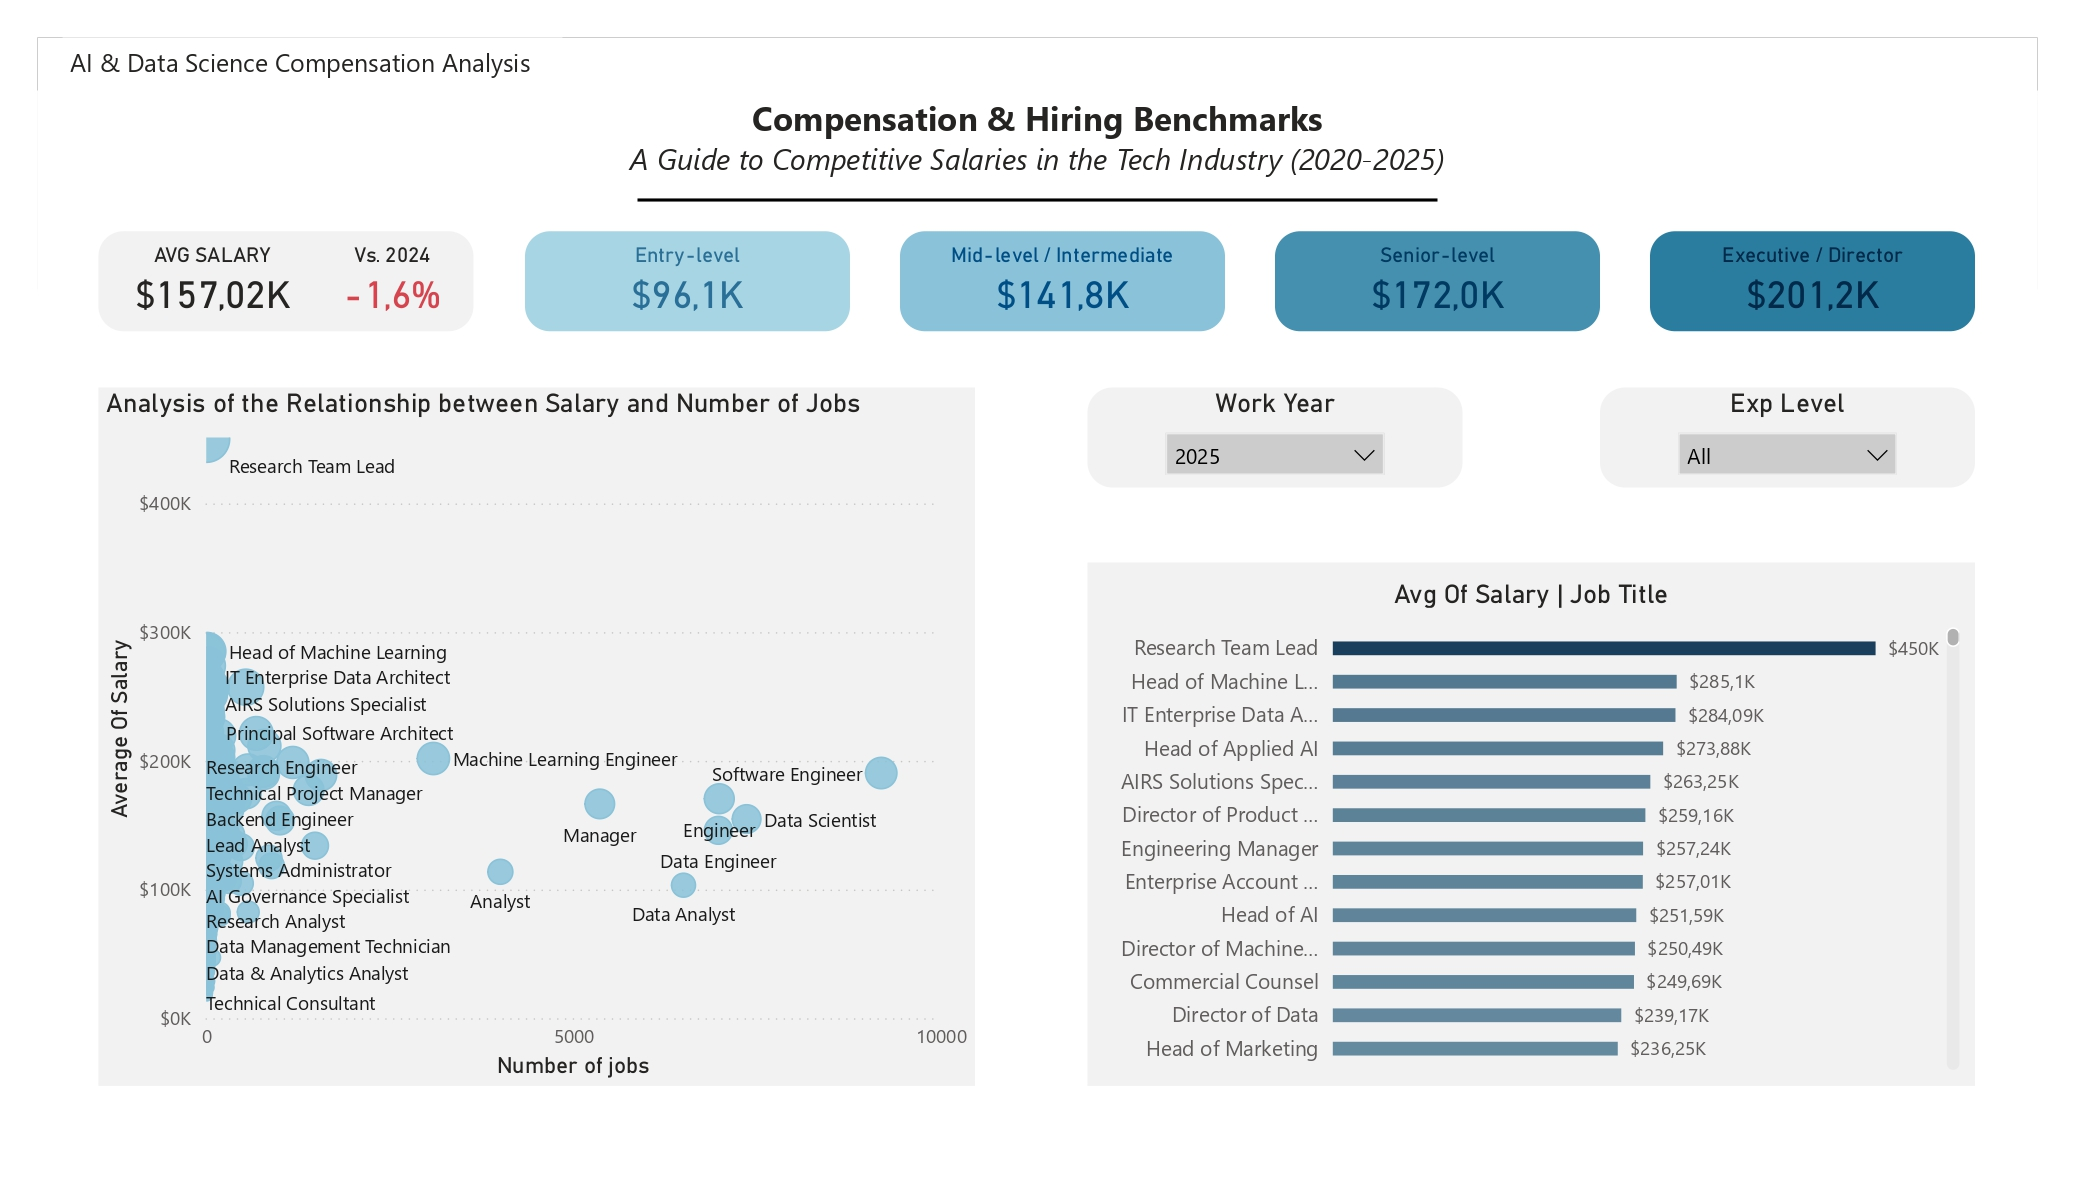

What the dashboard file says about the page in this screenshot:
{"tool":"powerbi","page":{"name":"3.Job Title Benchmarking","canvas":[1280,720],"ordinal":3},"visuals":[{"type":"textbox","box":[16,0,320,48],"z":0},{"type":"shape","box":[1000,224,240,64],"z":0,"group":"g7"},{"type":"textbox","box":[16,32,1248,64],"z":1000},{"type":"slicer","title":"Exp Level","fields":{"Values":["salaries.experience_level"]},"box":[1040.2,224,160,64],"z":1000,"group":"g7"},{"type":"shape","box":[384,96,512,16],"z":2000},{"type":"shape","box":[672,224,240,64],"z":2000,"group":"g3"},{"type":"group","id":"g1","title":"Group 7","box":[39.3,123.7,240.2,64],"z":3000},{"type":"shape","box":[39.3,123.7,240,64],"z":4000,"group":"g1"},{"type":"shape","box":[311.6,124.4,208,64],"z":4000,"group":"g2"},{"type":"shape","box":[551.7,124.4,208,64],"z":4000,"group":"g4"},{"type":"clusteredBarChart","title":"Avg Of Salary | Job Title","fields":{"Category":["salaries.job_title"],"Y":["Avg(salaries.salary_in_usd)"]},"box":[672.5,336.2,567.7,334.8],"z":4000},{"type":"group","id":"g2","title":"Group 1","box":[311.6,124.4,208,64],"z":5000},{"type":"shape","box":[791.9,124.4,208,64],"z":5000,"group":"g5"},{"type":"card","title":"AVG SALARY","fields":{"Values":["Avg(salaries.salary_in_usd)"]},"box":[54.7,131.7,115.4,48],"z":5000,"group":"g1"},{"type":"group","id":"g3","title":"Group 2","box":[672,224,238,48],"z":6000},{"type":"slicer","title":"Work Year","fields":{"Values":["salaries.work_year"]},"box":[712.2,224,160,64],"z":6000,"group":"g3"},{"type":"shape","box":[1032,123.7,208,64],"z":7000,"group":"g6"},{"type":"group","id":"g4","title":"Group 3","box":[551.7,124.4,208,64],"z":7000},{"type":"group","id":"g5","title":"Group 4","box":[791.9,124.4,208,80],"z":8000},{"type":"card","title":"Mid-level / Intermediate","fields":{"Values":["salaries.Mid-level"]},"box":[567.7,132.4,176,48],"z":8000,"group":"g4"},{"type":"group","id":"g6","title":"Group 5","box":[1032,123.7,208.1,80.1],"z":9000},{"type":"card","title":"Senior-level","fields":{"Values":["salaries.Senior-level"]},"box":[807.7,132.4,176,48],"z":9000,"group":"g5"},{"type":"card","title":"Executive / Director","fields":{"Values":["salaries.Executive"]},"box":[1048,131.7,176,48],"z":10000,"group":"g6"},{"type":"scatterChart","title":"Analysis of the Relationship between Salary and Number of Jobs","fields":{"Category":["salaries.job_title"],"Y":["Avg(salaries.salary_in_usd)"],"X":["CountNonNull(salaries.job_title)"],"Size":["Avg(salaries.salary_in_usd)"]},"box":[39.3,224.2,560.4,446.9],"z":10000},{"type":"group","id":"g7","title":"Group 1","box":[1000,224,240,64],"z":11000},{"type":"card","title":"Entry-level","fields":{"Values":["salaries.Entry-level"]},"box":[327.6,132.4,176,48],"z":13000,"group":"g2"},{"type":"card","title":"Vs. 2024","fields":{"Values":["salaries.Avg_Sal_Change_Vs2024"]},"box":[183.3,131.7,88,48],"z":14002,"group":"g1"}]}

Visuals, with their boxes on the page's 1280x720 design canvas (x1, y1, x2, y2). These are canvas units, not pixel positions in the 2075x1200 screenshot, which may show the page scaled, cropped or inside an application window:
textbox: BBox(16, 0, 336, 48)
shape: BBox(1000, 224, 1240, 288)
textbox: BBox(16, 32, 1264, 96)
"Exp Level" slicer: BBox(1040, 224, 1200, 288)
shape: BBox(384, 96, 896, 112)
shape: BBox(672, 224, 912, 288)
"Group 7" group: BBox(39, 124, 280, 188)
shape: BBox(39, 124, 279, 188)
shape: BBox(312, 124, 520, 188)
shape: BBox(552, 124, 760, 188)
"Avg Of Salary | Job Title" clusteredBarChart: BBox(672, 336, 1240, 671)
"Group 1" group: BBox(312, 124, 520, 188)
shape: BBox(792, 124, 1000, 188)
"AVG SALARY" card: BBox(55, 132, 170, 180)
"Group 2" group: BBox(672, 224, 910, 272)
"Work Year" slicer: BBox(712, 224, 872, 288)
shape: BBox(1032, 124, 1240, 188)
"Group 3" group: BBox(552, 124, 760, 188)
"Group 4" group: BBox(792, 124, 1000, 204)
"Mid-level / Intermediate" card: BBox(568, 132, 744, 180)
"Group 5" group: BBox(1032, 124, 1240, 204)
"Senior-level" card: BBox(808, 132, 984, 180)
"Executive / Director" card: BBox(1048, 132, 1224, 180)
"Analysis of the Relationship between Salary and Number of Jobs" scatterChart: BBox(39, 224, 600, 671)
"Group 1" group: BBox(1000, 224, 1240, 288)
"Entry-level" card: BBox(328, 132, 504, 180)
"Vs. 2024" card: BBox(183, 132, 271, 180)
